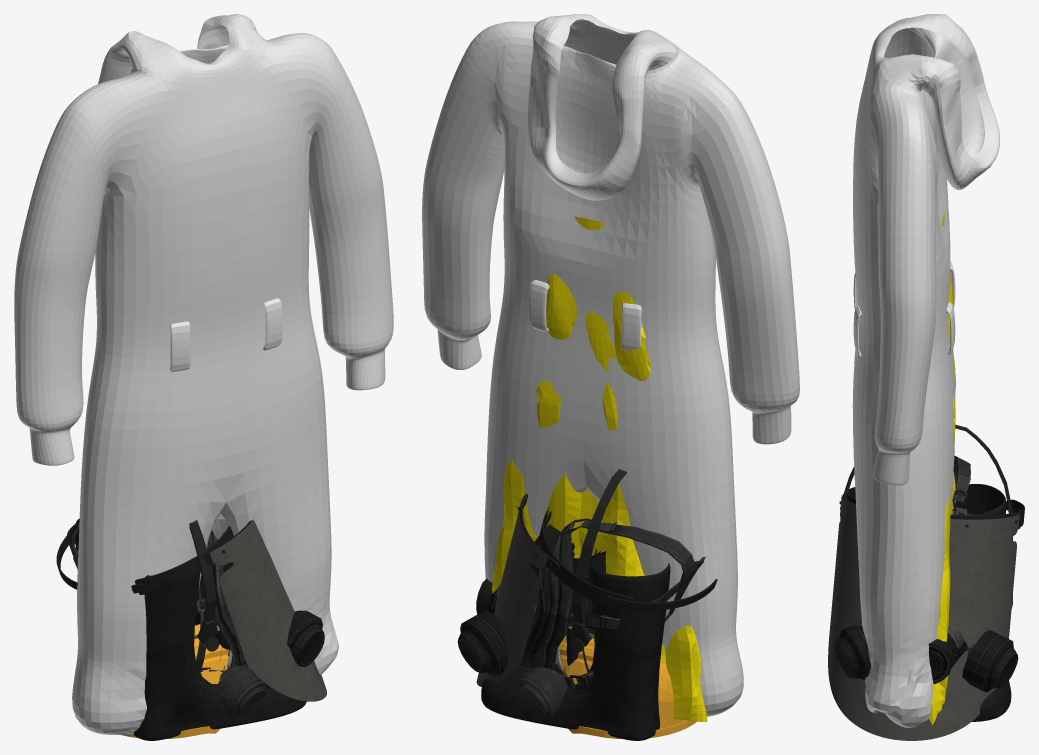
File: Sc12Ppe.glb
3 views of the same model, side by side, from view 1: azimuth 30°, elevation 25°; view 2: azimuth 150°, elevation 25°; view 3: azimuth 270°, elevation 25° (orthographic). The views are drawn at different scales.
Parts seen in each view (by area): view 1: HazmatSuit_0, Boot_0, FaceShield_1, FaceMask_0, CartMask_3, FaceShield_0, CartMask_1, Helmet_0; view 2: HazmatSuit_0, Apron_0, Boot_0, FaceMask_0, FaceShield_1, FaceShield_0, Helmet_0, CartMask_1, CartMask_3, Glove_0; view 3: HazmatSuit_0, FaceShield_1, FaceMask_0, Apron_0, Boot_0, FaceShield_0, CartMask_1.
Boxes of the visible parts, <box> form: HazmatSuit_0: <box>14,14,393,734</box>; Boot_0: <box>75,528,306,740</box>; FaceShield_1: <box>210,519,326,701</box>; FaceMask_0: <box>68,518,324,672</box>; CartMask_3: <box>195,585,269,720</box>; FaceShield_0: <box>56,520,252,594</box>; CartMask_1: <box>189,520,219,651</box>; Helmet_0: <box>121,624,228,738</box>; HazmatSuit_0: <box>422,14,799,716</box>; Apron_0: <box>491,216,707,721</box>; Boot_0: <box>481,551,670,740</box>; FaceMask_0: <box>457,518,705,689</box>; FaceShield_1: <box>476,493,547,686</box>; FaceShield_0: <box>517,494,717,610</box>; Helmet_0: <box>559,635,696,738</box>; CartMask_1: <box>570,469,626,652</box>; CartMask_3: <box>516,549,597,716</box>; Glove_0: <box>566,542,600,665</box>; HazmatSuit_0: <box>852,14,1000,727</box>; FaceShield_1: <box>828,495,1019,740</box>; FaceMask_0: <box>834,455,1018,692</box>; Apron_0: <box>929,209,956,724</box>; Boot_0: <box>849,484,1011,721</box>; FaceShield_0: <box>839,487,1024,529</box>; CartMask_1: <box>844,424,1013,540</box>.
Bounding box in the file's own units: 2.09 × 3.6 × 0.9929.
Materials: 13 (11 with a texture image).
